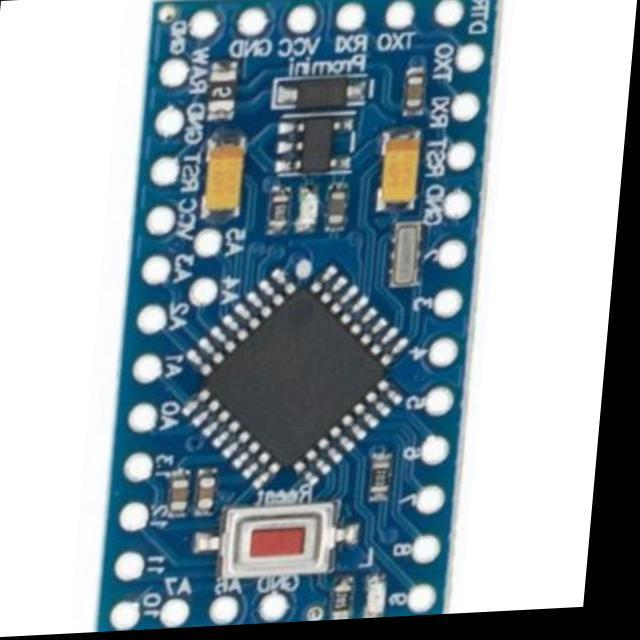Arduino-ProMini: (98, 1, 498, 629)
